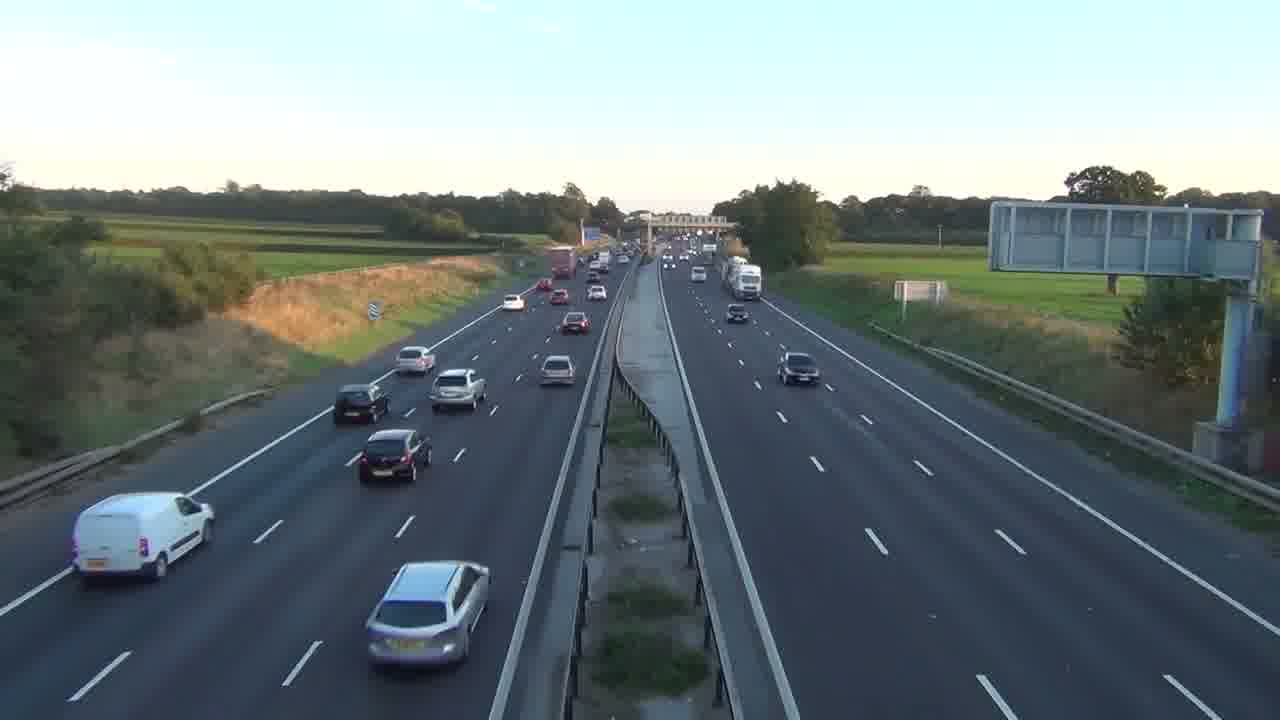car: (365, 560, 492, 670), (347, 428, 432, 482), (427, 367, 486, 412), (334, 381, 390, 425), (777, 352, 821, 386), (536, 353, 576, 387), (396, 345, 436, 375), (559, 310, 591, 335), (726, 304, 750, 324)
truck: (70, 491, 216, 582), (334, 381, 390, 425), (721, 258, 763, 300)
